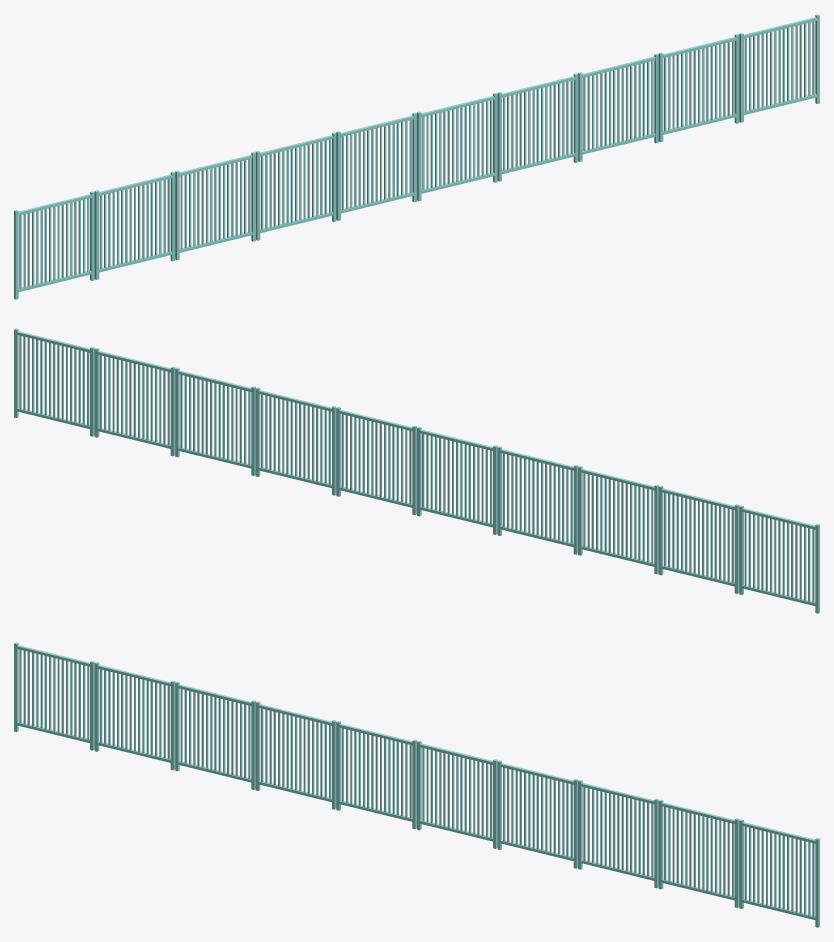
File: fence_long.fbx
3 renders of one model, top to bottom at view 1: azimuth 30°, elevation 25°; view 2: azimuth 150°, elevation 25°; view 3: azimuth 330°, elevation 25°, orthographic.
Visible parts, largest first — view 1: Куб; view 2: Куб; view 3: Куб.
Part boxes in pixels (bbox=[...]): Куб: bbox=[14, 14, 819, 299]; Куб: bbox=[14, 328, 819, 613]; Куб: bbox=[14, 642, 819, 927].
Size of the model in its own units: 2200 by 230 by 8.
